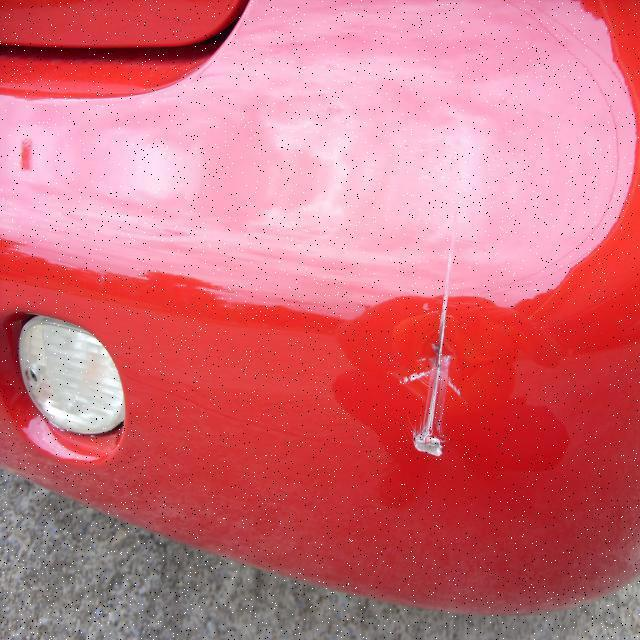rear-bumper-dent: (0, 160, 639, 618)
